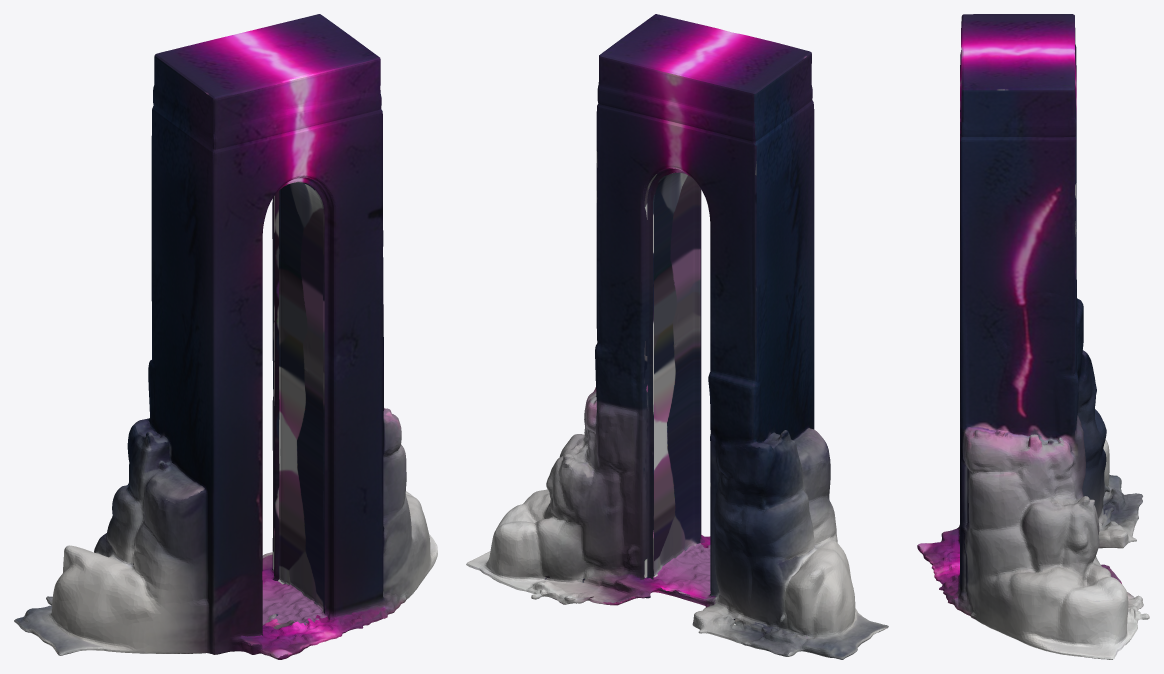
File: weathered-monolith-pillar-texture-wrap-2026-05-15T00-20-45-036Z.glb
The picture shows the model from 3 angles, left to right: view 1: azimuth 30°, elevation 25°; view 2: azimuth 150°, elevation 25°; view 3: azimuth 270°, elevation 25°; orthographic projection. The views are drawn at different scales.
Visible parts, largest first — view 1: temp_mesh.ply; view 2: temp_mesh.ply; view 3: temp_mesh.ply.
Part boxes in pixels (bbox=[...]): temp_mesh.ply: bbox=[14, 14, 437, 659]; temp_mesh.ply: bbox=[466, 14, 888, 659]; temp_mesh.ply: bbox=[917, 14, 1149, 659].
Size of the model in its own units: 1.5 by 1.97 by 0.8029.
Materials: 1 (1 with a texture image).
